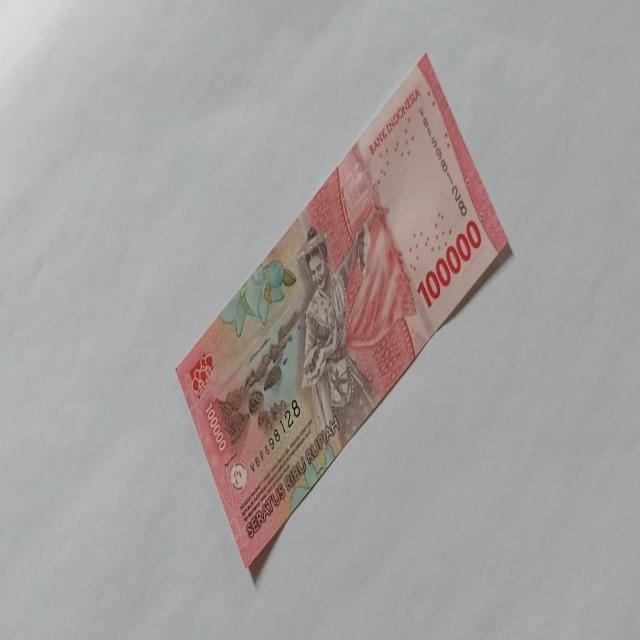seratus ribu rupiah: (173, 51, 513, 569), (296, 214, 374, 446)
